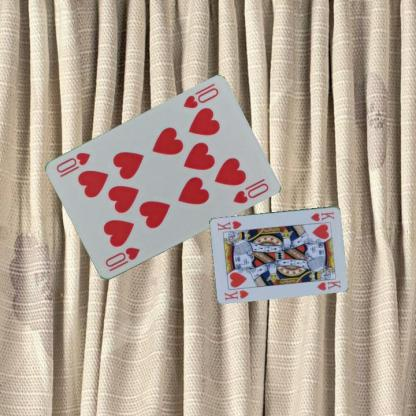10h: (180, 85, 220, 110), (102, 245, 141, 270)
Kh: (308, 208, 336, 223), (222, 287, 249, 301)
